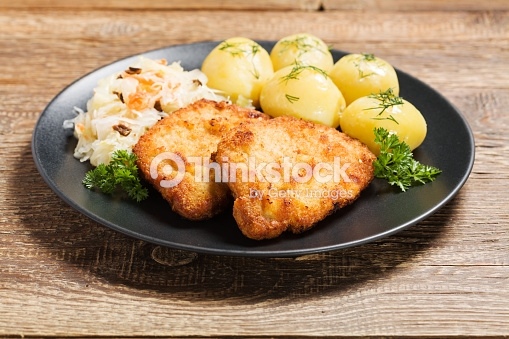boiled potatoes: (238, 39, 417, 132)
